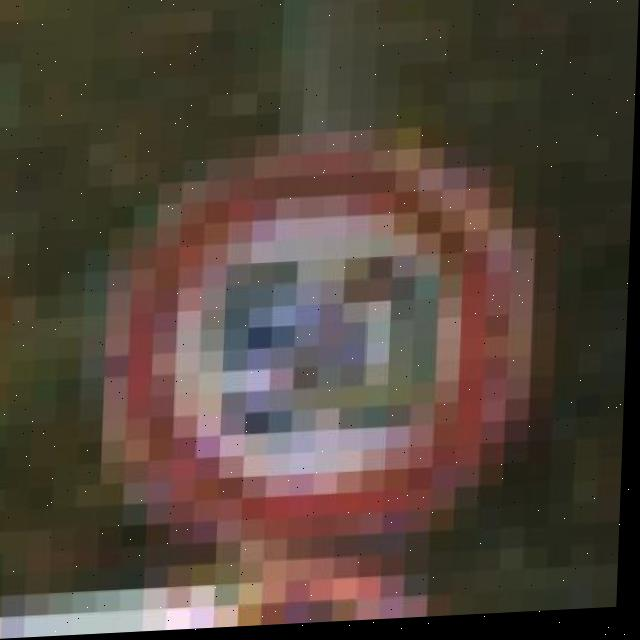Speed limit 50: (93, 123, 540, 635)
